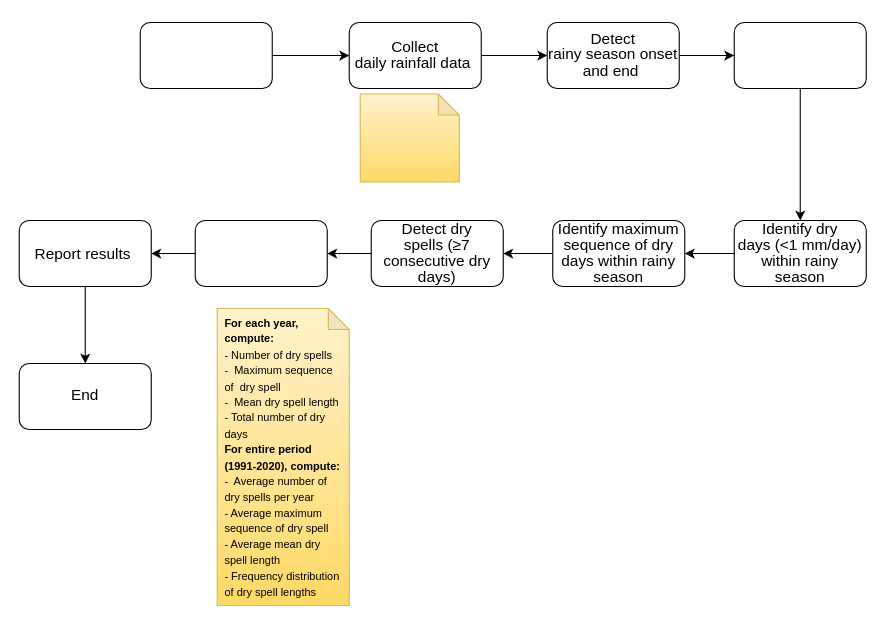
Some shapes in this 886 by 625 pixel diagram are drawn without their labels. Here are the shapes that lost their labels. From the top down, the box of each, then its label:
(139, 21, 272, 89): Start
(733, 21, 866, 89): Set rain day threshold (≥1 mm/day)
(359, 93, 459, 182): Daily data for: - Actual year - Baseline - Future
(194, 219, 327, 287): Calculate dry spell metrics:
